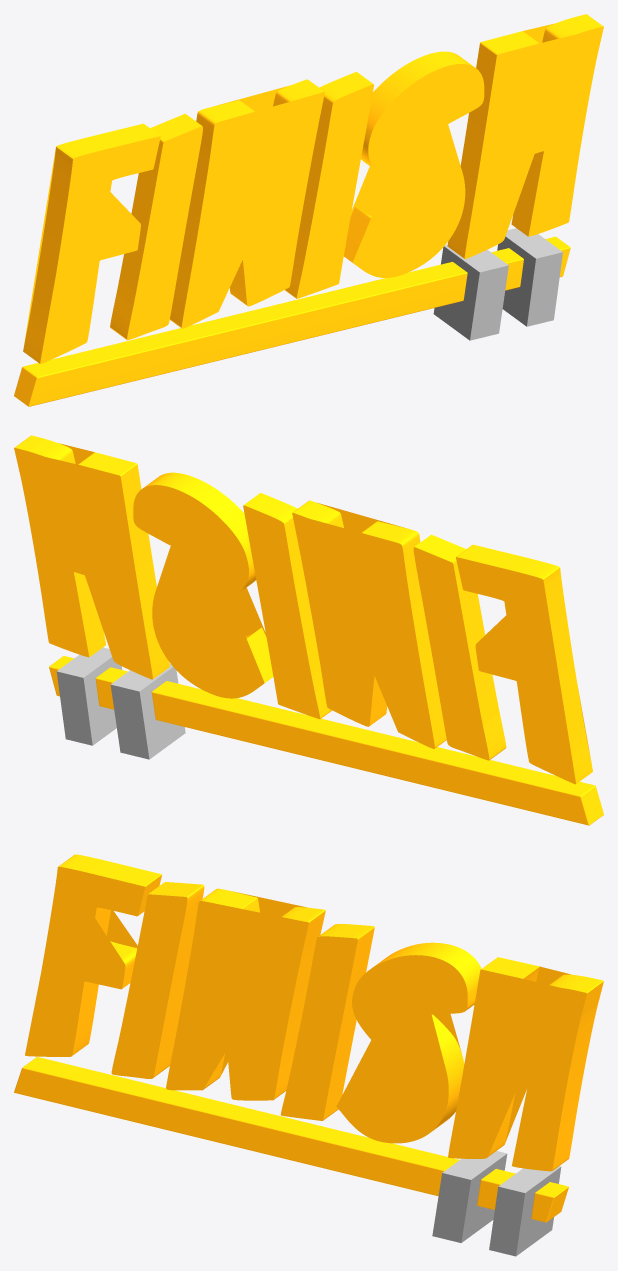
File: FINISH.fbx
3 views of the same model, one above another, from view 1: azimuth 30°, elevation 25°; view 2: azimuth 150°, elevation 25°; view 3: azimuth 330°, elevation 25° (orthographic).
Visible parts, largest first — view 1: imagetostl_mesh0, imagetostl_mesh1, imagetostl_mesh2, Cube, imagetostl_mesh3, imagetostl_mesh4, imagetostl_mesh5, Cube.001; view 2: imagetostl_mesh0, imagetostl_mesh1, imagetostl_mesh2, Cube, imagetostl_mesh3, imagetostl_mesh4, imagetostl_mesh5, Cube.001; view 3: imagetostl_mesh0, imagetostl_mesh1, imagetostl_mesh2, Cube, imagetostl_mesh3, imagetostl_mesh4, imagetostl_mesh5, Cube.001.
Part boxes in pixels (x1,y1,x2,y2): imagetostl_mesh0: (170,79,324,328); imagetostl_mesh1: (447,14,603,259); imagetostl_mesh2: (344,51,484,277); Cube: (14,236,570,406); imagetostl_mesh3: (23,123,160,363); imagetostl_mesh4: (110,113,202,340); imagetostl_mesh5: (285,72,373,298); Cube.001: (433,228,562,340); imagetostl_mesh0: (292,500,446,748); imagetostl_mesh1: (14,435,169,679); imagetostl_mesh2: (133,472,273,698); Cube: (49,656,603,825); imagetostl_mesh3: (456,544,592,784); imagetostl_mesh4: (413,534,506,760); imagetostl_mesh5: (243,493,331,719); Cube.001: (56,647,185,759); imagetostl_mesh0: (166,888,325,1100); imagetostl_mesh1: (448,957,603,1171); imagetostl_mesh2: (336,942,481,1143); Cube: (14,1057,568,1222); imagetostl_mesh3: (25,854,161,1056); imagetostl_mesh4: (111,882,204,1078); imagetostl_mesh5: (280,924,374,1120); Cube.001: (432,1151,561,1256).
Bounding box in the file's own units: 6282 × 2862 × 687.
